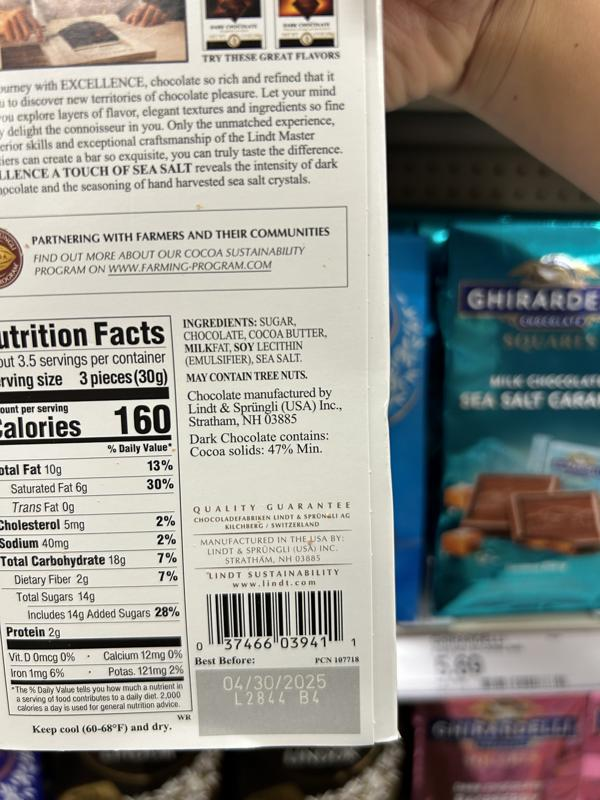ingredients: (182, 313, 330, 368)
